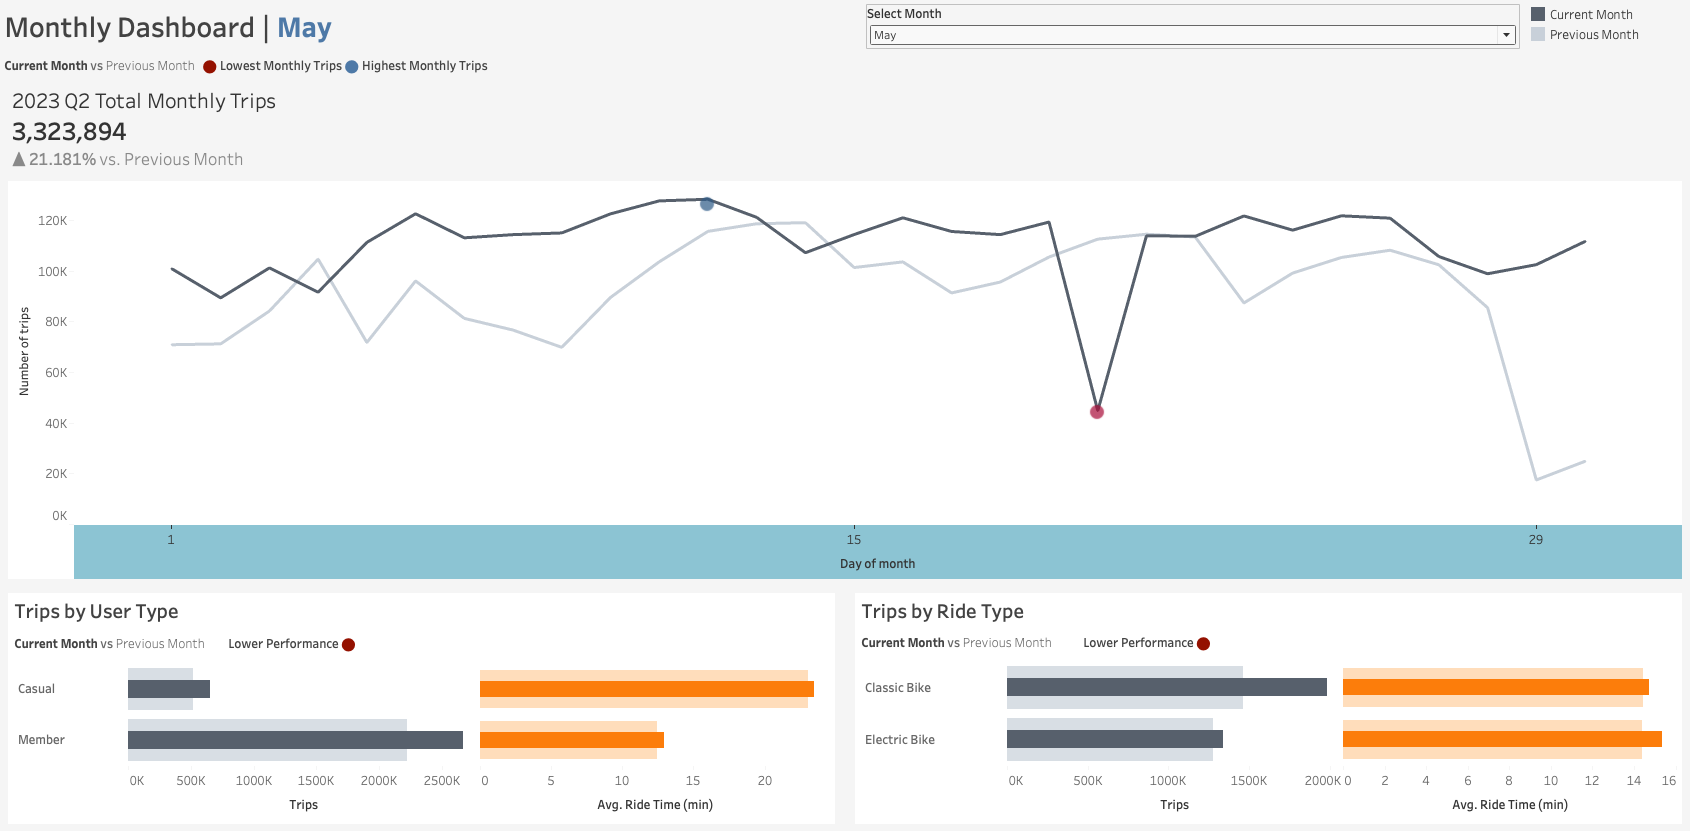

Layout of this report page (visuals, bound fields, positions):
{"tool":"tableau","page":{"name":"Monthly Trips","canvas":[1000,1000],"units":"permille","ordinal":0},"visuals":[{"type":"text","box":[0,0,593.8,53.6]},{"type":"parameter","param":"[Parameters].[Parameter 1]","box":[593.8,0,290.7,53.6]},{"type":"legend","title":"Trips","param":"[federated.02sm7nr1siw9os1d3kso008bdk6i].[:Measure Names]","box":[884.5,0,115.5,53.6]},{"type":"text","box":[0,53.6,1000,25.3]},{"type":"worksheet","title":"Trips","mark":"Line","rows":["Calculation_2813975771045302283"],"cols":["ended_at"],"box":[0,79,1000,635.6]},{"type":"text","box":[6.9,724.7,486.6,34.4]},{"type":"text","box":[507.2,724.7,485.9,34.4]},{"type":"text","box":[6.9,759.1,147.1,32.4]},{"type":"text","box":[154,759.1,339.5,32.4]},{"type":"text","box":[507.2,759.1,152.6,30.4]},{"type":"text","box":[659.8,759.1,333.3,30.4]},{"type":"worksheet","title":"Bikes","mark":"Bar","rows":["rideable_type","Calculation_2377900663737311233"],"cols":["CM Trips (copy)_2813975771367456798","Calculation_2813975771363704857","Current Month Ride Duration (copy)_2813975771250921492","Current Month Trips (copy)_2813975771250335763"],"box":[507.2,789.5,485.9,169]},{"type":"worksheet","title":"Users","mark":"Bar","rows":["member_casual","Calculation_2377900663737311233"],"cols":["CM Trips (copy)_2813975771367456798","Calculation_2813975771363704857","Current Month Ride Duration (copy)_2813975771250921492","Current Month Trips (copy)_2813975771250335763"],"box":[6.9,791.5,486.6,167]}]}

Visuals, with their boxes on the dashboard's canvas, which has no fixed pixel size, in thousandths of its width and height (x1, y1, x2, y2). These are canvas units, not pixel positions in the 1690x831 screenshot, which may show the page scaled, cropped or inside an application window:
text: [0, 0, 594, 54]
parameter: [594, 0, 884, 54]
"Trips" legend: [884, 0, 1000, 54]
text: [0, 54, 1000, 79]
"Trips" worksheet (Line marks): [0, 79, 1000, 715]
text: [7, 725, 494, 759]
text: [507, 725, 993, 759]
text: [7, 759, 154, 792]
text: [154, 759, 494, 792]
text: [507, 759, 660, 790]
text: [660, 759, 993, 790]
"Bikes" worksheet (Bar marks): [507, 790, 993, 958]
"Users" worksheet (Bar marks): [7, 792, 494, 958]
